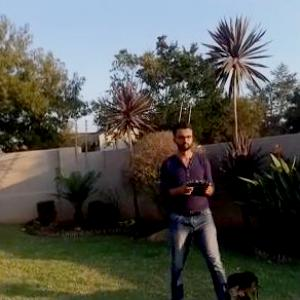follow: (156, 115, 233, 299)
null: (223, 265, 262, 299)
